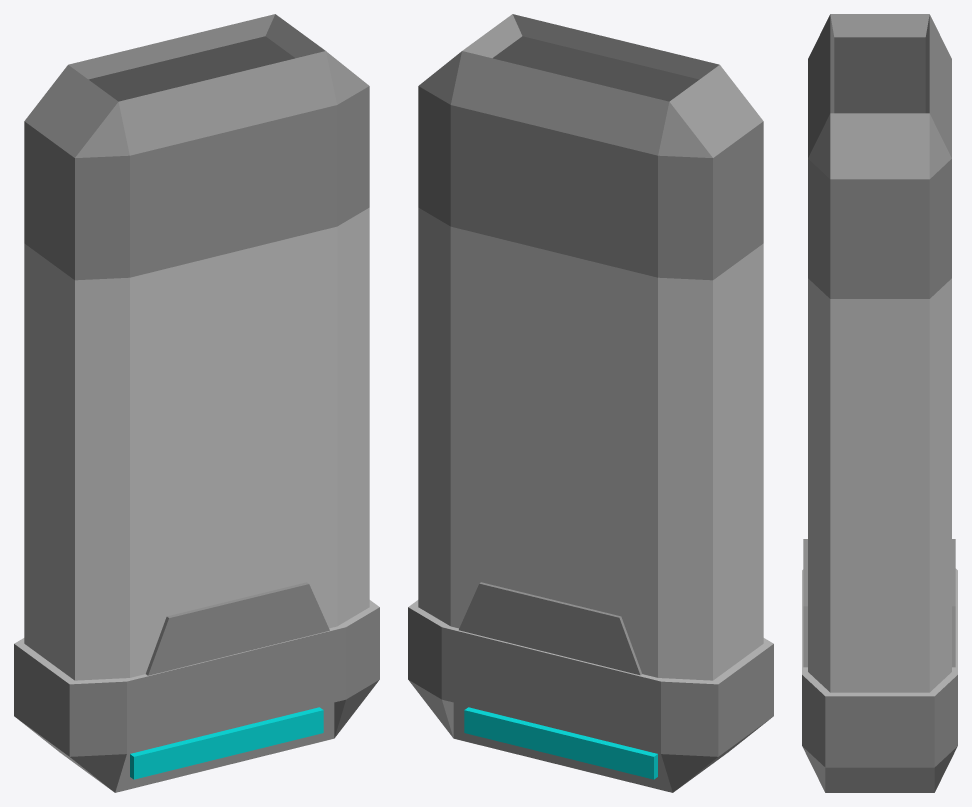
File: SM_Pistol_Magazine.fbx
3 views of the same model, side by side, from view 1: azimuth 30°, elevation 25°; view 2: azimuth 150°, elevation 25°; view 3: azimuth 270°, elevation 25° (orthographic).
Parts seen in each view (by area): view 1: SM_Pistol_Magazine; view 2: SM_Pistol_Magazine; view 3: SM_Pistol_Magazine.
Part boxes in pixels (left/top/right/bottom): SM_Pistol_Magazine: left=14, top=14, right=379, bottom=792; SM_Pistol_Magazine: left=408, top=14, right=773, bottom=792; SM_Pistol_Magazine: left=802, top=14, right=957, bottom=792.
Size of the model in its own units: 4.68 by 9.91 by 2.06.
